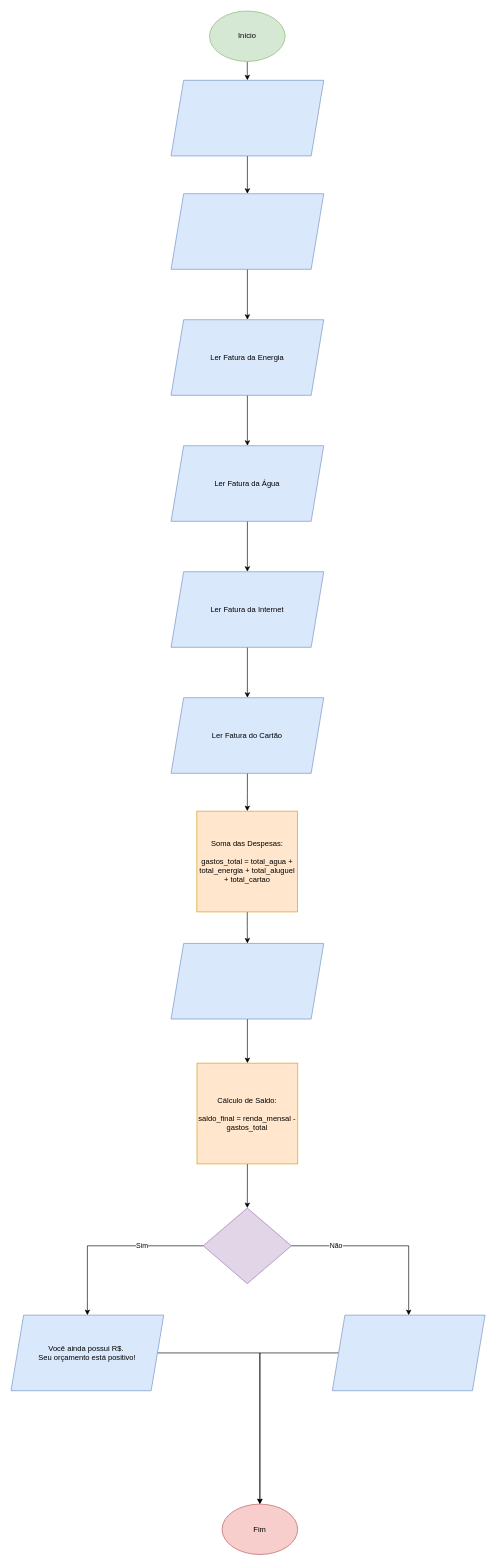
Some shapes in this 496 by 1566 pixel diagram are drawn without their labels. The centre of each missing label's shape, as x and y in pixels:
"Atenção! Seu orçamento está estourado." goes at point 408,1352.
"Ler Nome do Usuário" goes at point 247,118.
"Ler Salário Total" goes at point 247,231.
"Mostrar Total de Despesas" goes at point 247,981.
"saldo_final >= 0?" goes at point 247,1245.
